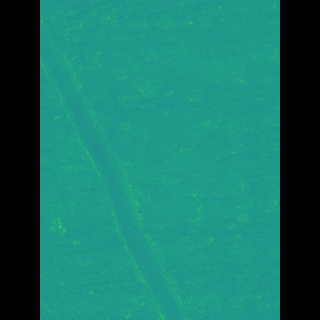Loch: (69, 16, 183, 320)
